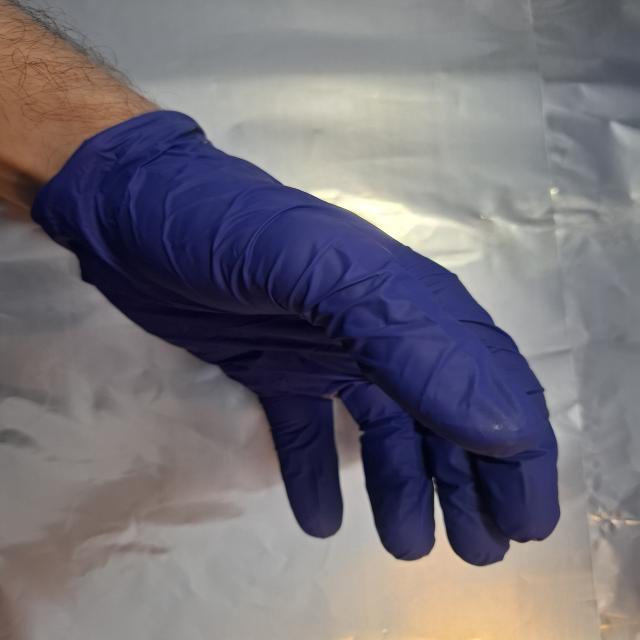glove_on: (43, 112, 565, 565)
